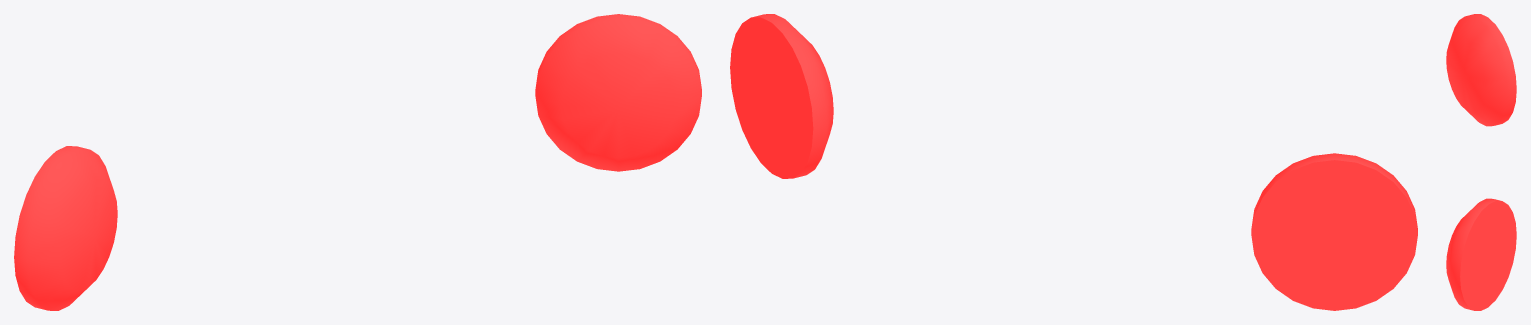
Rendered from EM_DashRed.fbx.
3 renders of one model, left to right at view 1: azimuth 30°, elevation 25°; view 2: azimuth 150°, elevation 25°; view 3: azimuth 270°, elevation 25°, orthographic. The views are drawn at different scales.
Parts seen in each view (by area): view 1: EM_DashRed; view 2: EM_DashRed; view 3: EM_DashRed.
Boxes of the visible parts, x1,y1,x2,y2 form: EM_DashRed: [14, 14, 701, 310]; EM_DashRed: [730, 14, 1417, 310]; EM_DashRed: [1446, 14, 1516, 310].
Size of the model in its own units: 2.48 by 0.52 by 0.3239.
